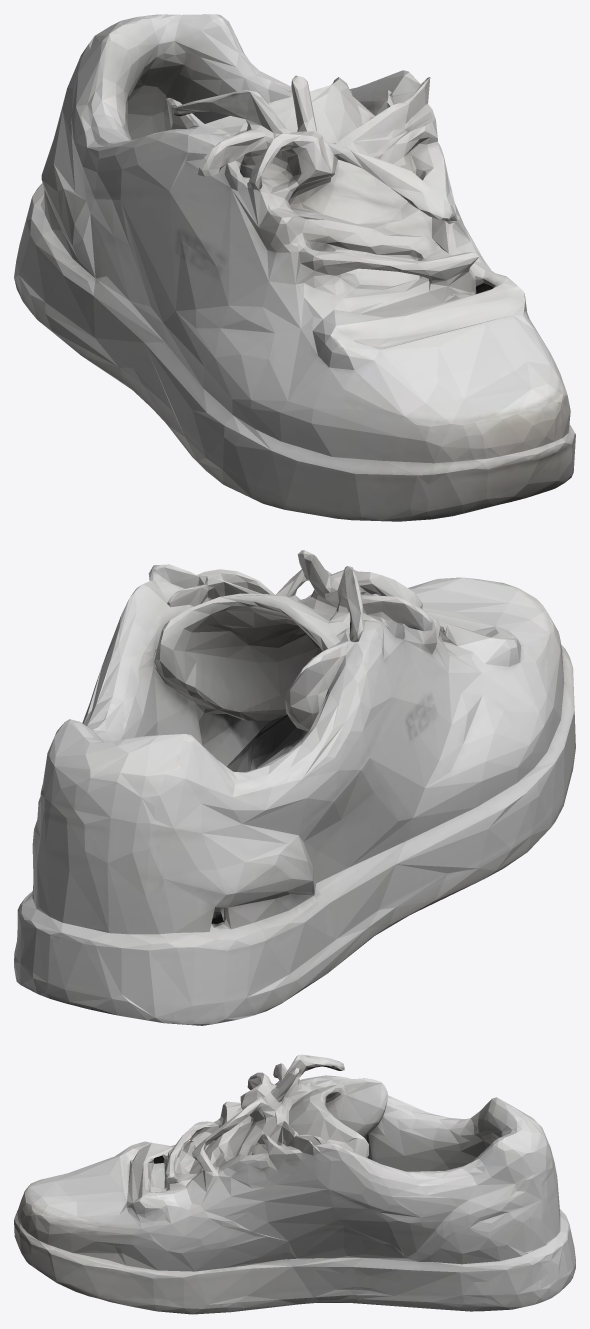
The picture shows the model from 3 angles, top to bottom: view 1: azimuth 30°, elevation 25°; view 2: azimuth 150°, elevation 25°; view 3: azimuth 270°, elevation 25°; orthographic projection. The views are drawn at different scales.
Visible parts, largest first — view 1: geometry_0; view 2: geometry_0; view 3: geometry_0.
Boxes of the visible parts, <box> form: geometry_0: <box>14,14,575,521</box>; geometry_0: <box>14,550,575,1025</box>; geometry_0: <box>14,1054,575,1314</box>.
Bounding box in the file's own units: 0.3938 × 0.4123 × 0.9989.
1 material, 1 textured.
